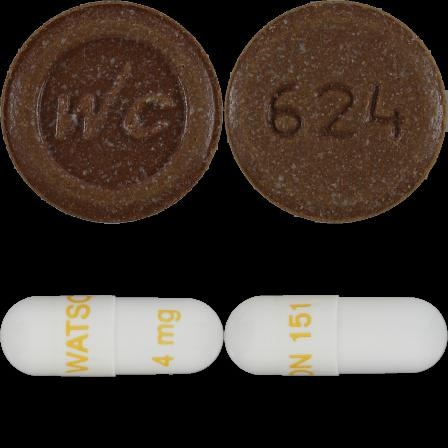52544-064: (0, 0, 224, 224)
